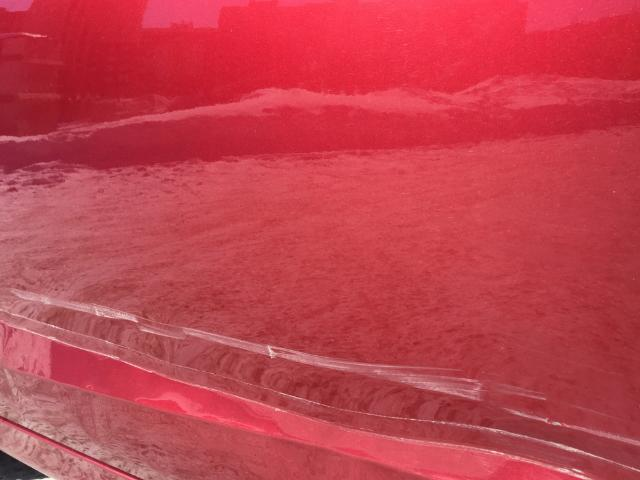scratch: (0, 281, 640, 480)
